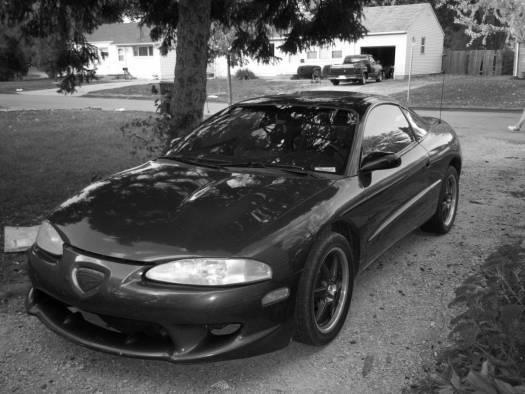car: (28, 61, 462, 366)
